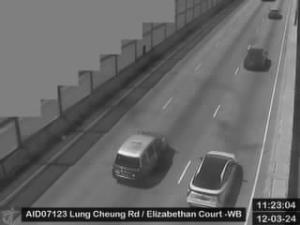vehicle: (186, 150, 244, 210), (112, 130, 166, 182), (244, 45, 270, 71), (268, 8, 284, 20)
